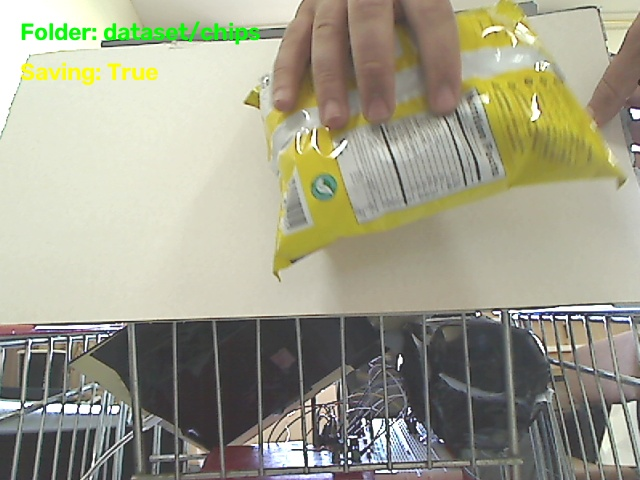chips: (246, 0, 624, 274)
